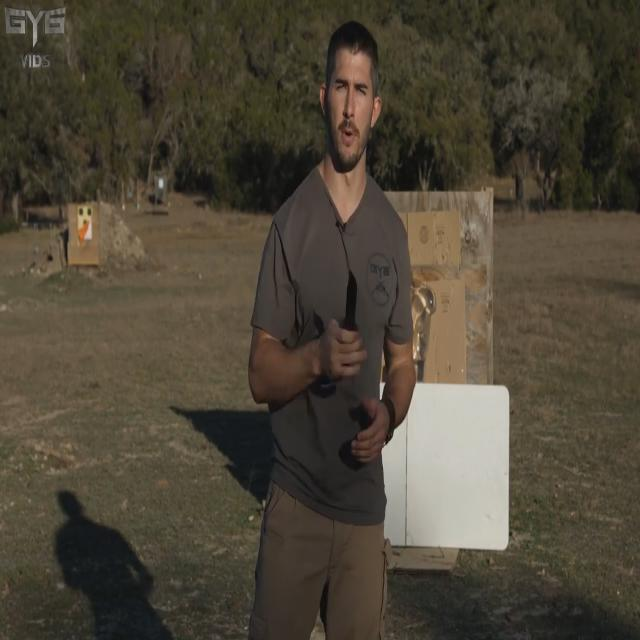knife: (341, 263, 363, 336)
